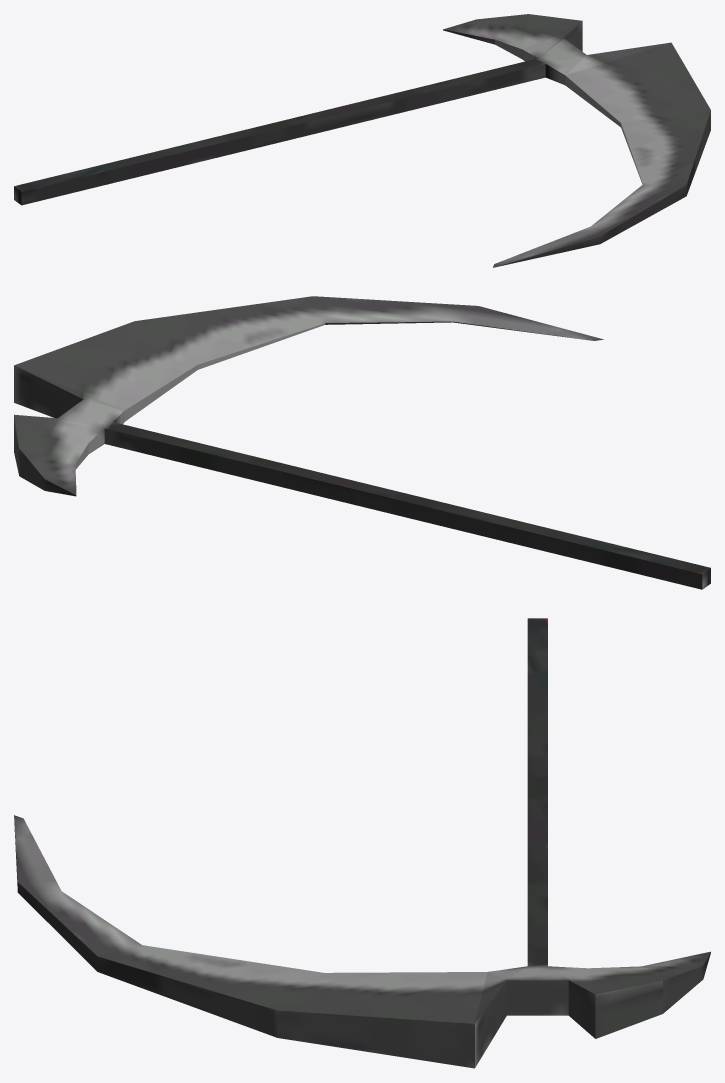
Rendered from Nickle.fbx.
The picture shows the model from 3 angles, top to bottom: view 1: azimuth 30°, elevation 25°; view 2: azimuth 150°, elevation 25°; view 3: azimuth 270°, elevation 25°; orthographic projection. The views are drawn at different scales.
Visible parts, largest first — view 1: child; view 2: child; view 3: child.
Boxes of the visible parts, left/top/right/bottom form: child: left=14, top=14, right=710, bottom=267; child: left=14, top=296, right=710, bottom=589; child: left=14, top=618, right=710, bottom=1068.
Bounding box in the file's own units: 0.9624 × 0.0478 × 0.6775.
Materials: 1 (1 with a texture image).
